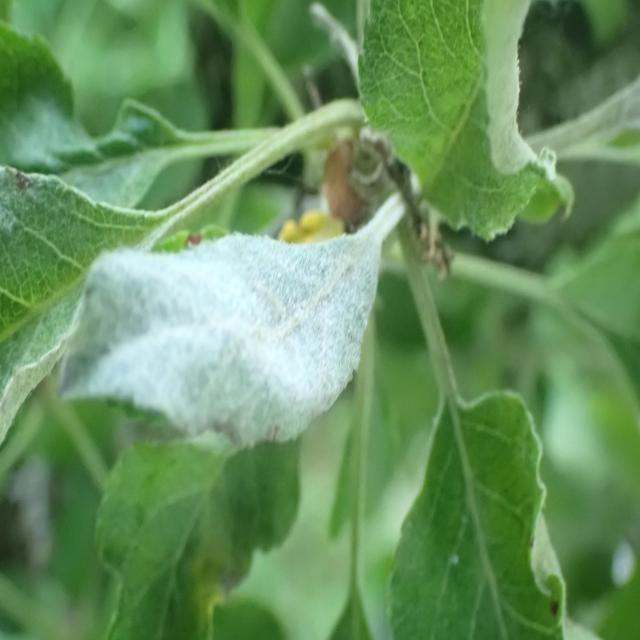Powdery_mildew: (62, 230, 432, 447)
